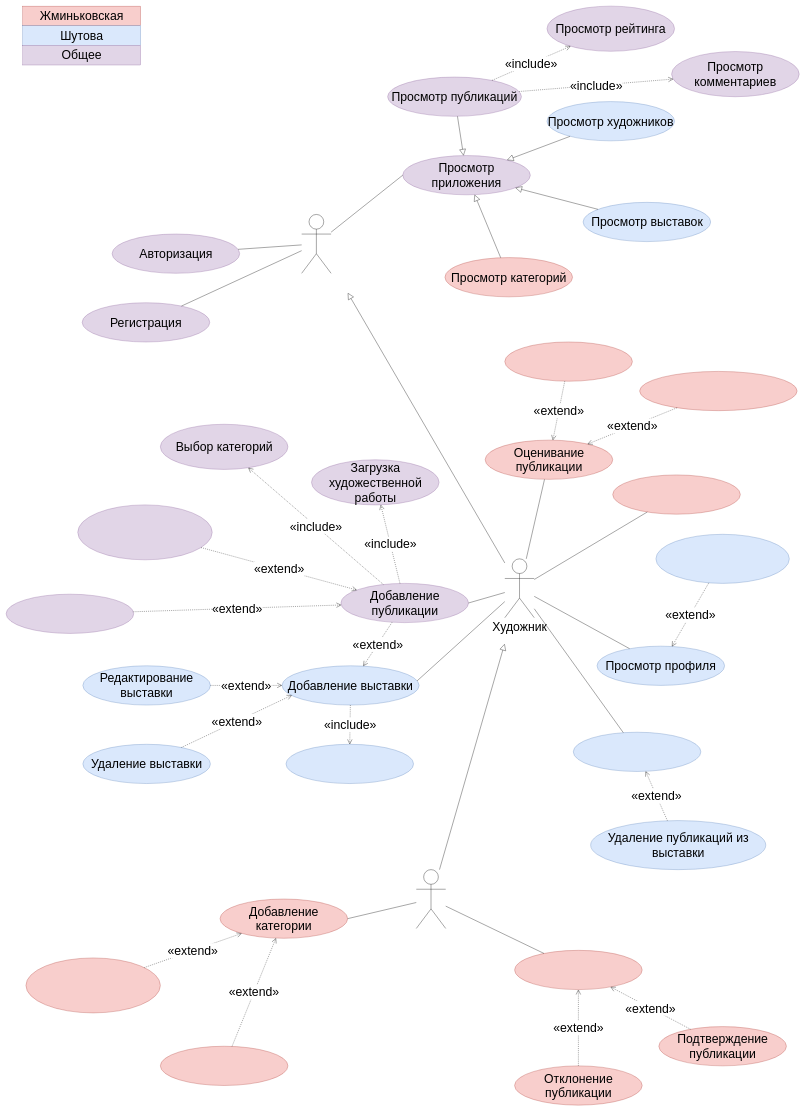
Some shapes in this 805 by 1111 pixel diagram are drawn without their labels. Each missing label, with the box of its shape:
Администратор: (416, 869, 446, 928)
Доступ к админ-панели: (514, 950, 642, 990)
Комментирование публикации: (612, 475, 740, 514)
Отмена оценки: (504, 342, 632, 381)
Посетитель: (301, 214, 331, 273)
Просмотр оценённых публикаций: (639, 371, 797, 411)
Редактирование категории: (26, 958, 160, 1013)
Редактирование отклонённой публикации: (77, 505, 212, 560)
Редактирование профиля: (656, 534, 789, 583)
Удаление категории: (160, 1046, 288, 1085)
Удаление публикации: (6, 594, 134, 633)
Управление доступом: (286, 744, 414, 784)
Участие в выставках: (573, 732, 701, 771)
